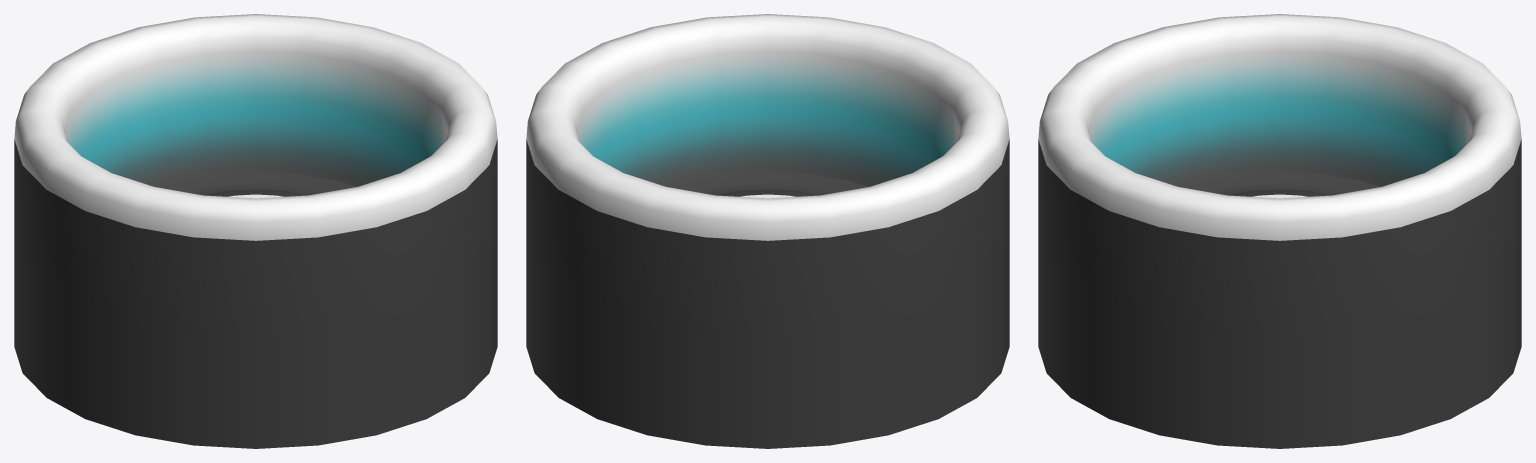
Rendered from GigXR UI - 3D Slider - Knob.fbx.
3 renders of one model, left to right at view 1: azimuth 30°, elevation 25°; view 2: azimuth 150°, elevation 25°; view 3: azimuth 270°, elevation 25°, orthographic.
Parts seen in each view (by area): view 1: Knob; view 2: Knob; view 3: Knob.
Part boxes in pixels (<box>): Knob: <box>14,14,497,448</box>; Knob: <box>526,14,1009,448</box>; Knob: <box>1038,14,1521,448</box>.
Size of the model in its own units: 59.99 by 32.56 by 59.99.
Materials: 1 (1 with a texture image).
